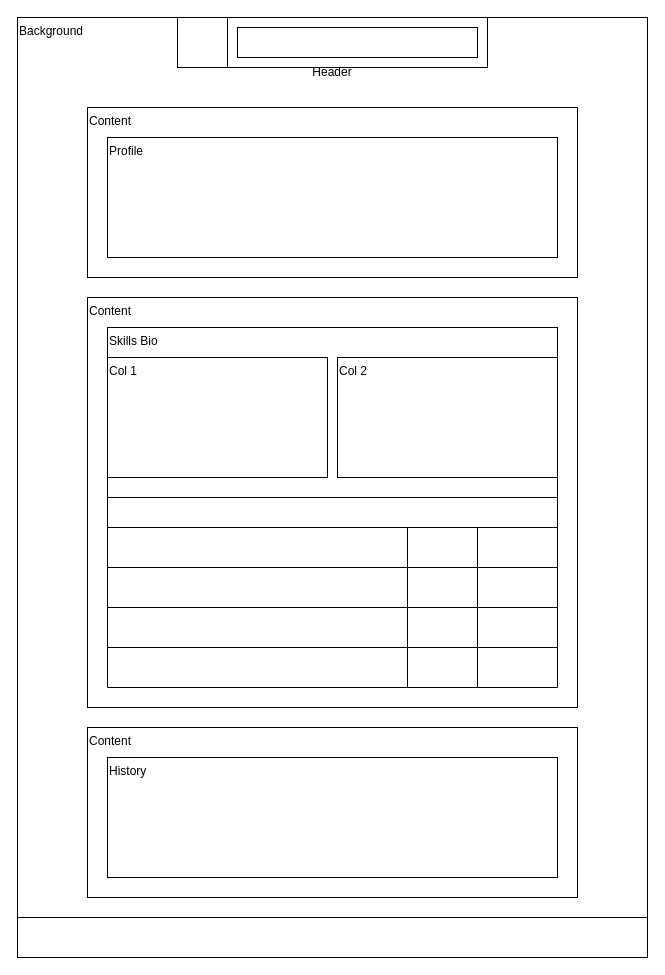
Some shapes in this 665 by 975 pixel diagram are drawn without their labels. Each missing label, with the box of its shape:
Footer: (16, 916, 648, 958)
Logo: (176, 16, 228, 68)
Nav: (236, 26, 478, 58)
Units: (106, 496, 558, 678)
